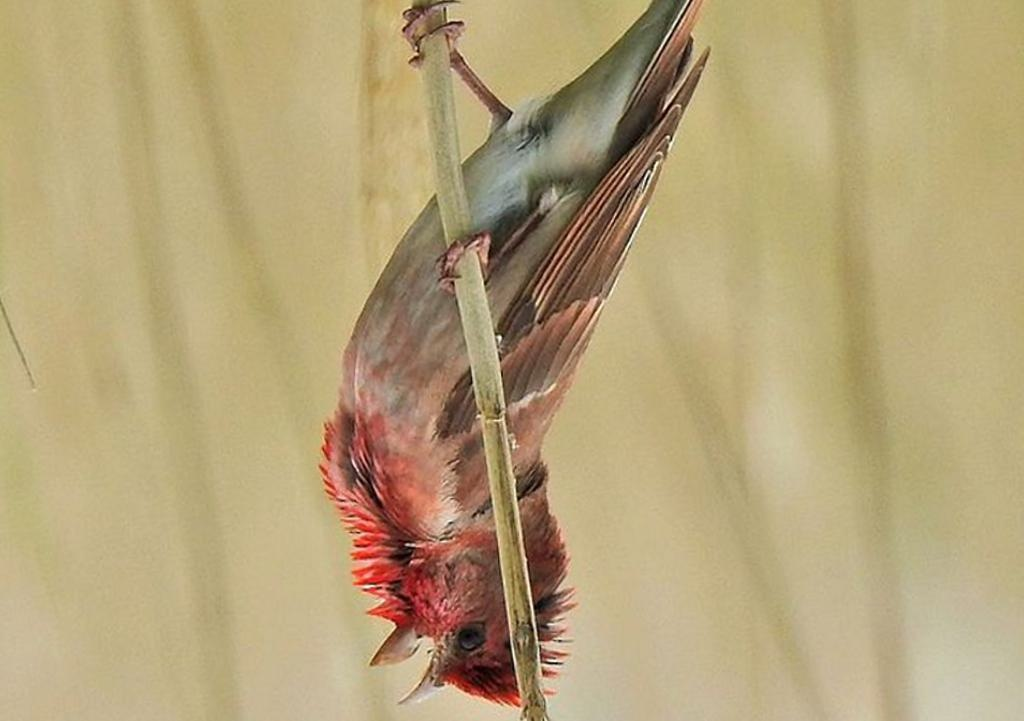rosefinch: (346, 77, 683, 713)
